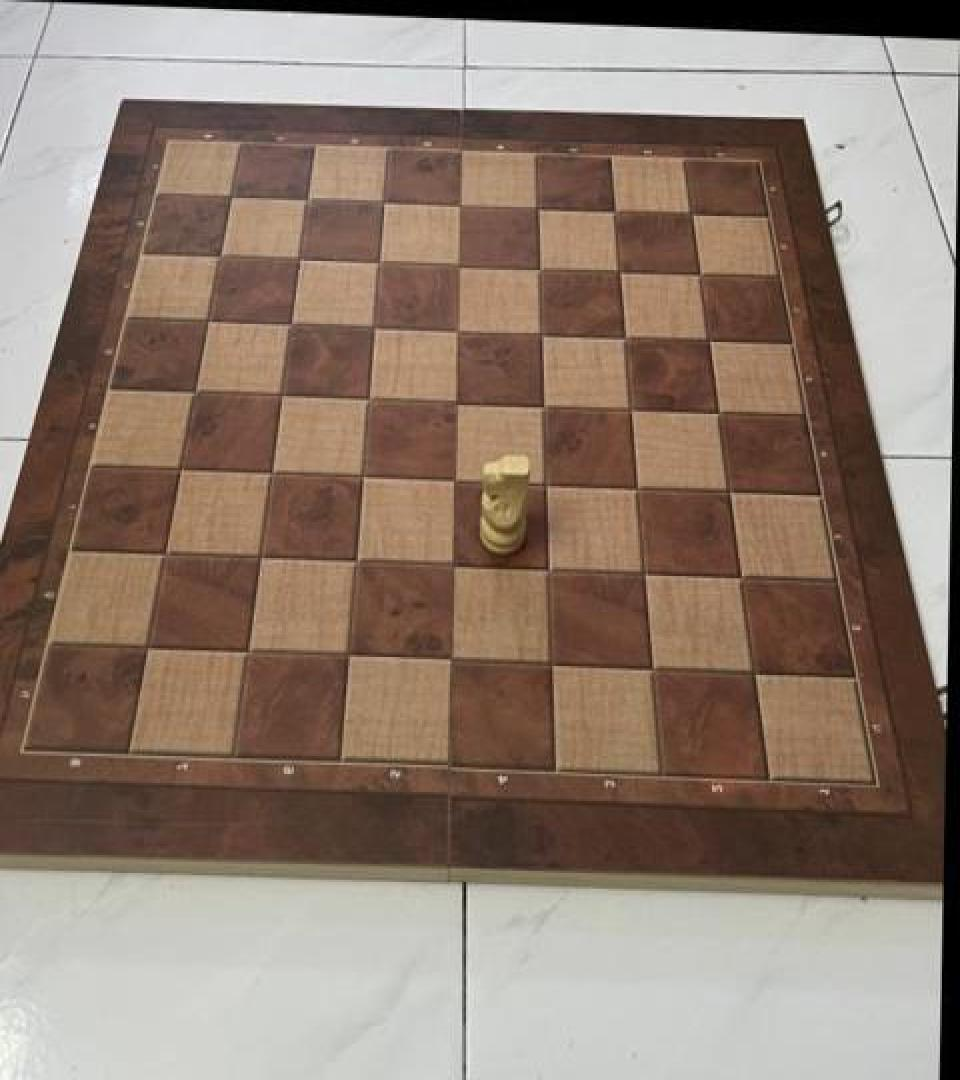xcorner: (213, 174, 249, 215), (366, 181, 402, 222), (595, 191, 631, 232), (282, 237, 318, 278), (441, 244, 477, 285), (680, 254, 716, 295), (190, 298, 226, 339), (439, 308, 475, 349), (606, 316, 642, 357), (264, 372, 300, 413), (438, 379, 474, 420), (699, 390, 735, 431), (345, 453, 381, 494), (527, 461, 563, 502), (710, 469, 746, 510), (242, 534, 278, 575), (434, 543, 470, 584), (626, 551, 662, 592), (331, 633, 367, 674), (533, 642, 569, 683), (735, 651, 771, 692), (289, 178, 325, 218), (442, 185, 478, 225), (518, 188, 554, 228), (671, 194, 707, 234), (202, 234, 238, 274), (361, 241, 397, 281), (520, 248, 556, 288), (600, 251, 636, 291), (273, 302, 309, 342), (356, 305, 392, 345), (522, 313, 558, 353), (689, 320, 725, 360), (177, 368, 213, 408), (351, 376, 387, 416), (525, 384, 561, 424), (612, 387, 648, 427), (162, 446, 198, 486), (253, 450, 289, 490), (436, 458, 472, 498), (618, 466, 654, 506), (146, 531, 182, 571), (338, 539, 374, 579), (530, 548, 566, 588), (722, 556, 758, 596), (129, 626, 165, 666), (230, 629, 266, 669), (432, 638, 468, 678), (634, 647, 670, 687)
